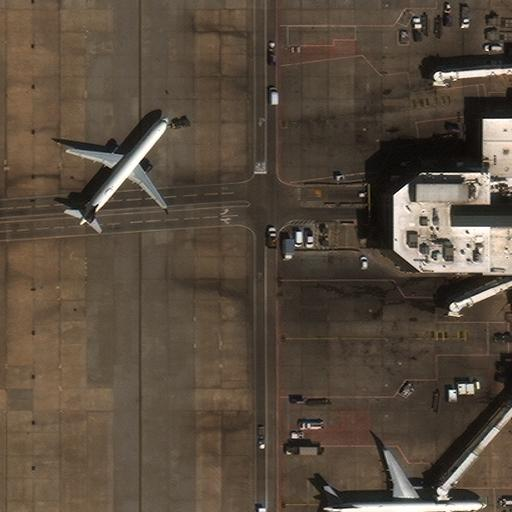Large Civil Transport: (321, 449, 486, 512)
Medium Civil Transport: (67, 117, 168, 223)
